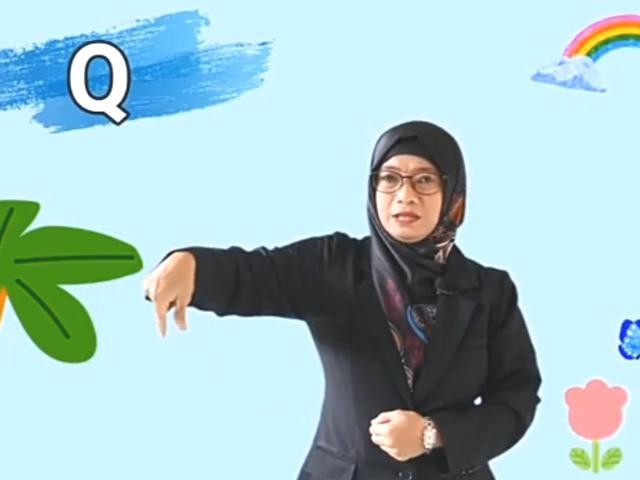Q: (141, 250, 197, 341)
